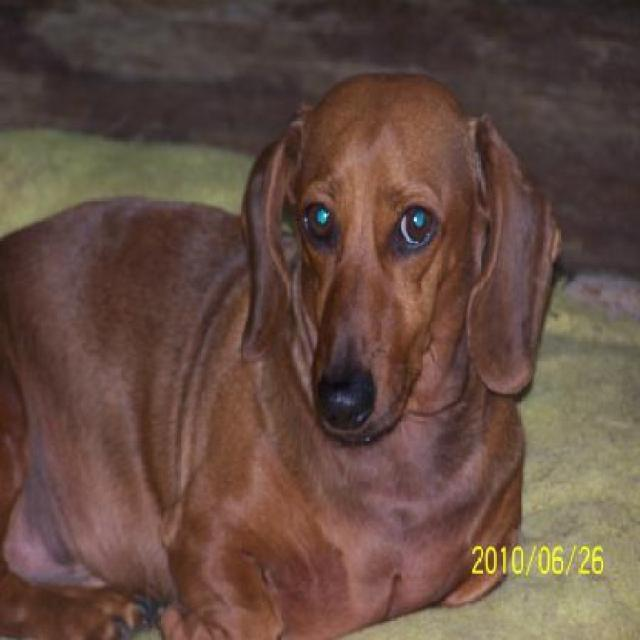Dog: (3, 79, 560, 638)
